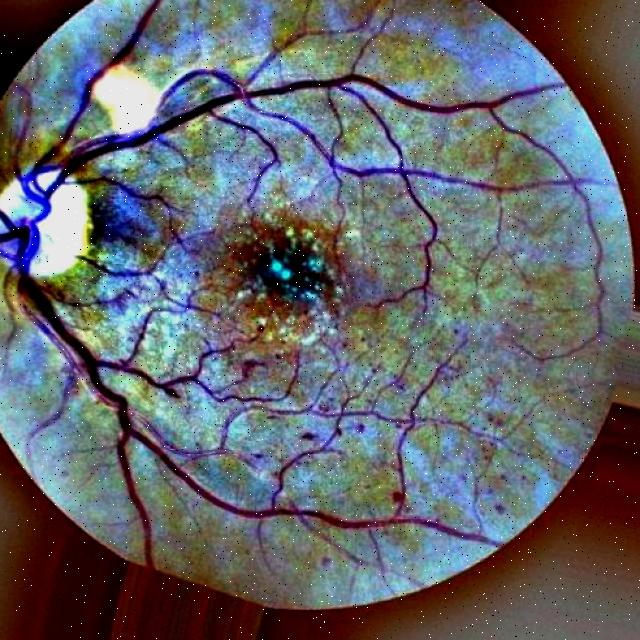Macula: (259, 235, 333, 310)
Nerves: (0, 0, 605, 568)
Optic Disk: (0, 167, 90, 277)
